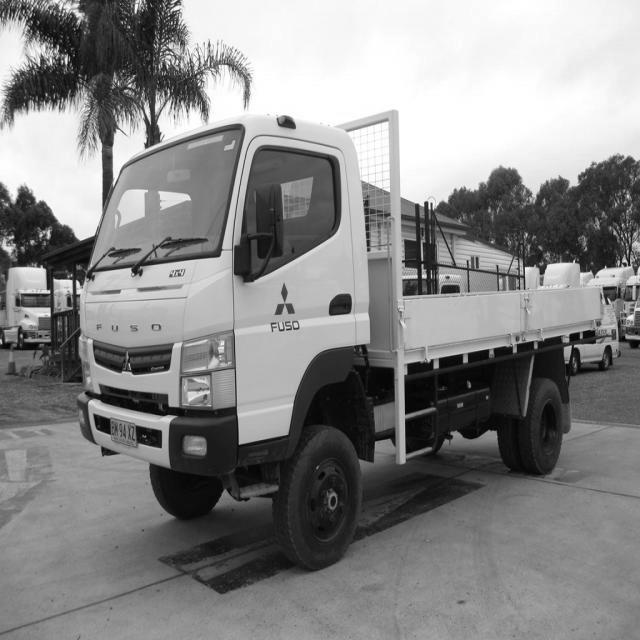truck: (63, 96, 425, 526)
